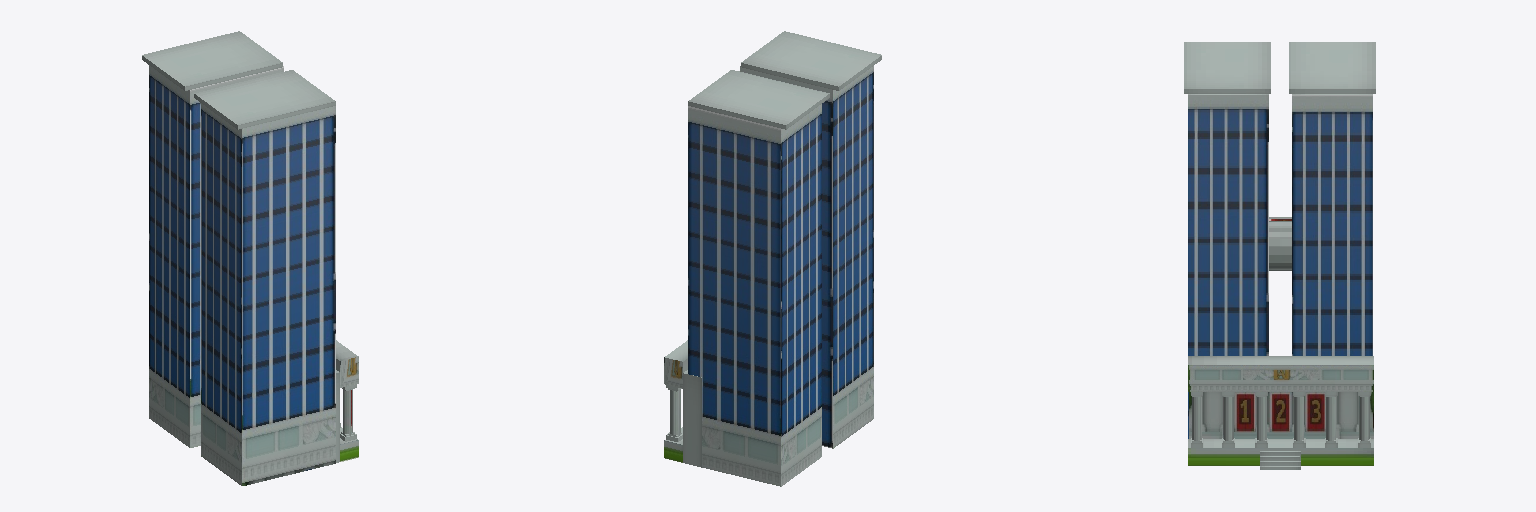
The picture shows the model from 3 angles: view 1: azimuth 30°, elevation 25°; view 2: azimuth 150°, elevation 25°; view 3: azimuth 270°, elevation 25°; orthographic projection.
Visible parts, largest first — view 1: UA_01; view 2: UA_01; view 3: UA_01.
Part boxes in pixels (x1,y1,x2,y2): UA_01: (142,31,358,485); UA_01: (664,31,881,486); UA_01: (1184,42,1375,469).
Bounding box in the file's own units: 3.06 × 8.03 × 3.84.
Materials: 1 (1 with a texture image).